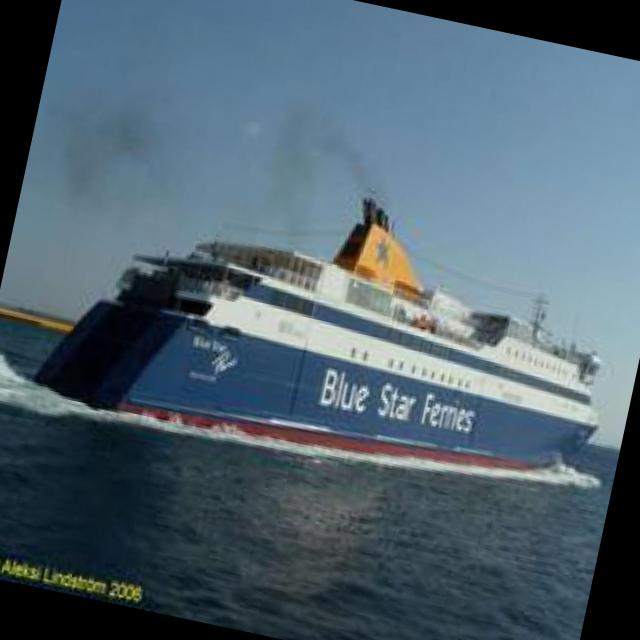boat: (40, 182, 630, 503)
